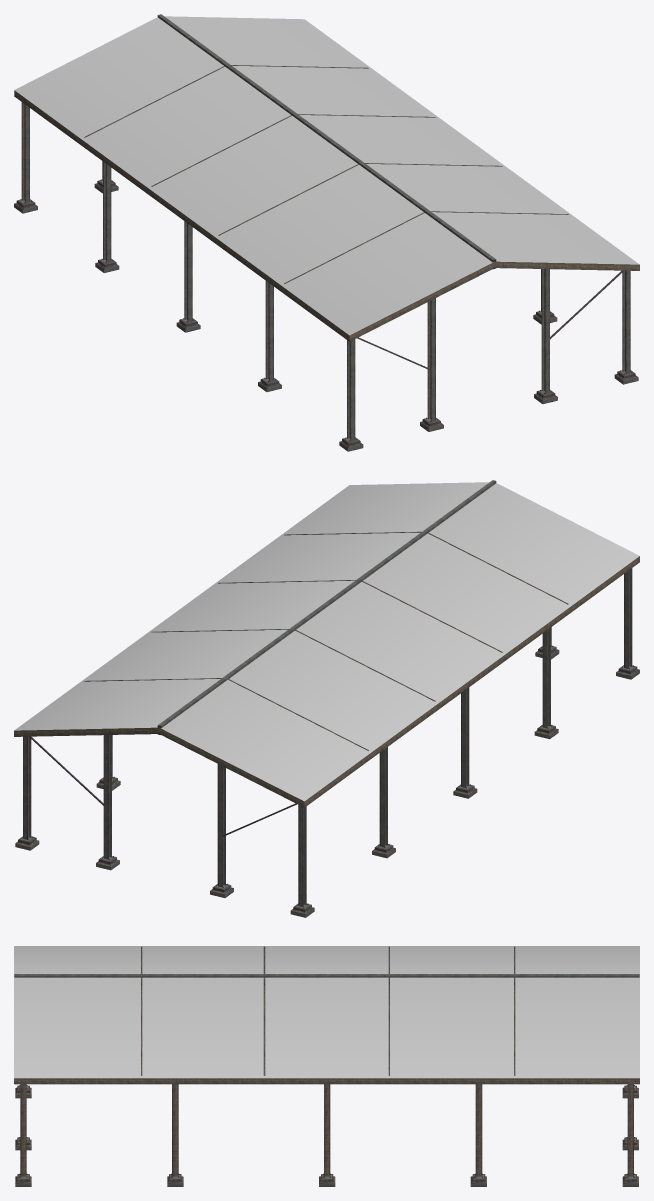
File: OpenBuildingShed.FBX
The picture shows the model from 3 angles, top to bottom: view 1: azimuth 30°, elevation 25°; view 2: azimuth 150°, elevation 25°; view 3: azimuth 270°, elevation 25°; orthographic projection. The views are drawn at different scales.
Visible parts, largest first — view 1: OpenBuildingA; view 2: OpenBuildingA; view 3: OpenBuildingA.
Boxes of the visible parts, x1,y1,x2,y2 form: OpenBuildingA: (14, 14, 639, 451); OpenBuildingA: (14, 480, 639, 917); OpenBuildingA: (14, 946, 639, 1186).
Bounding box in the file's own units: 1203 × 619 × 2400.
